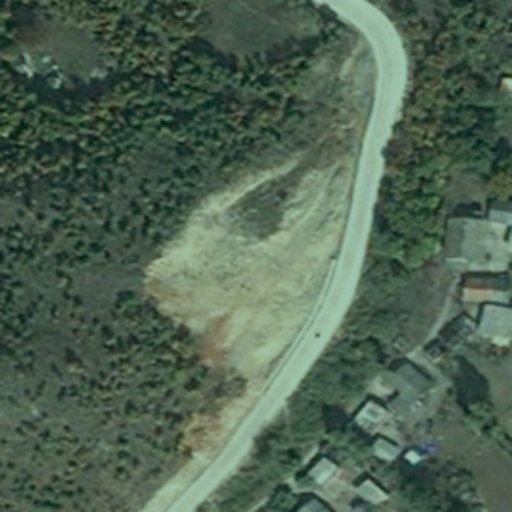landslide: (154, 155, 358, 355)
